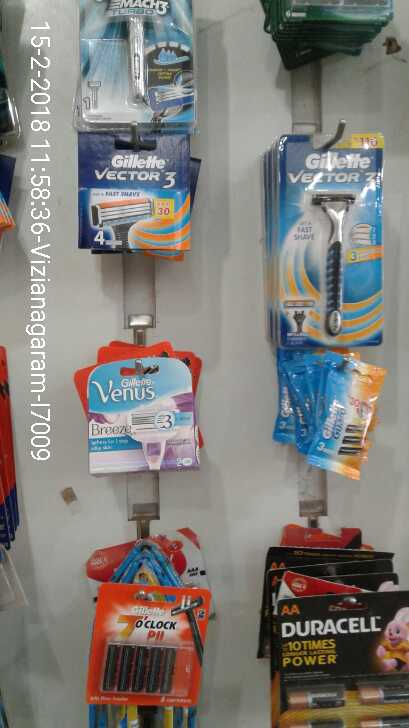beauty: (281, 137, 384, 343), (86, 355, 206, 470), (77, 4, 196, 118), (77, 130, 187, 245), (308, 357, 386, 481)
